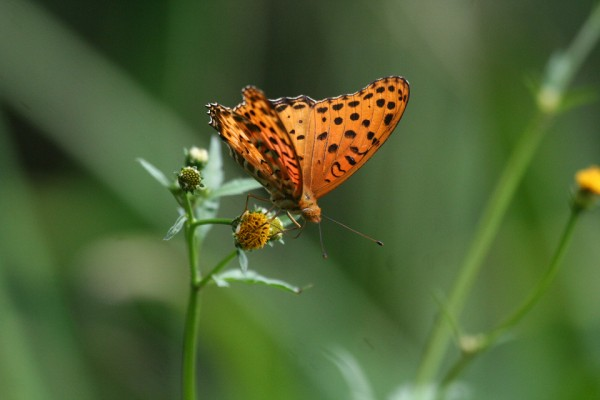Argyreus hyperbius: (199, 71, 411, 260)
butterfly: (201, 73, 413, 262)
